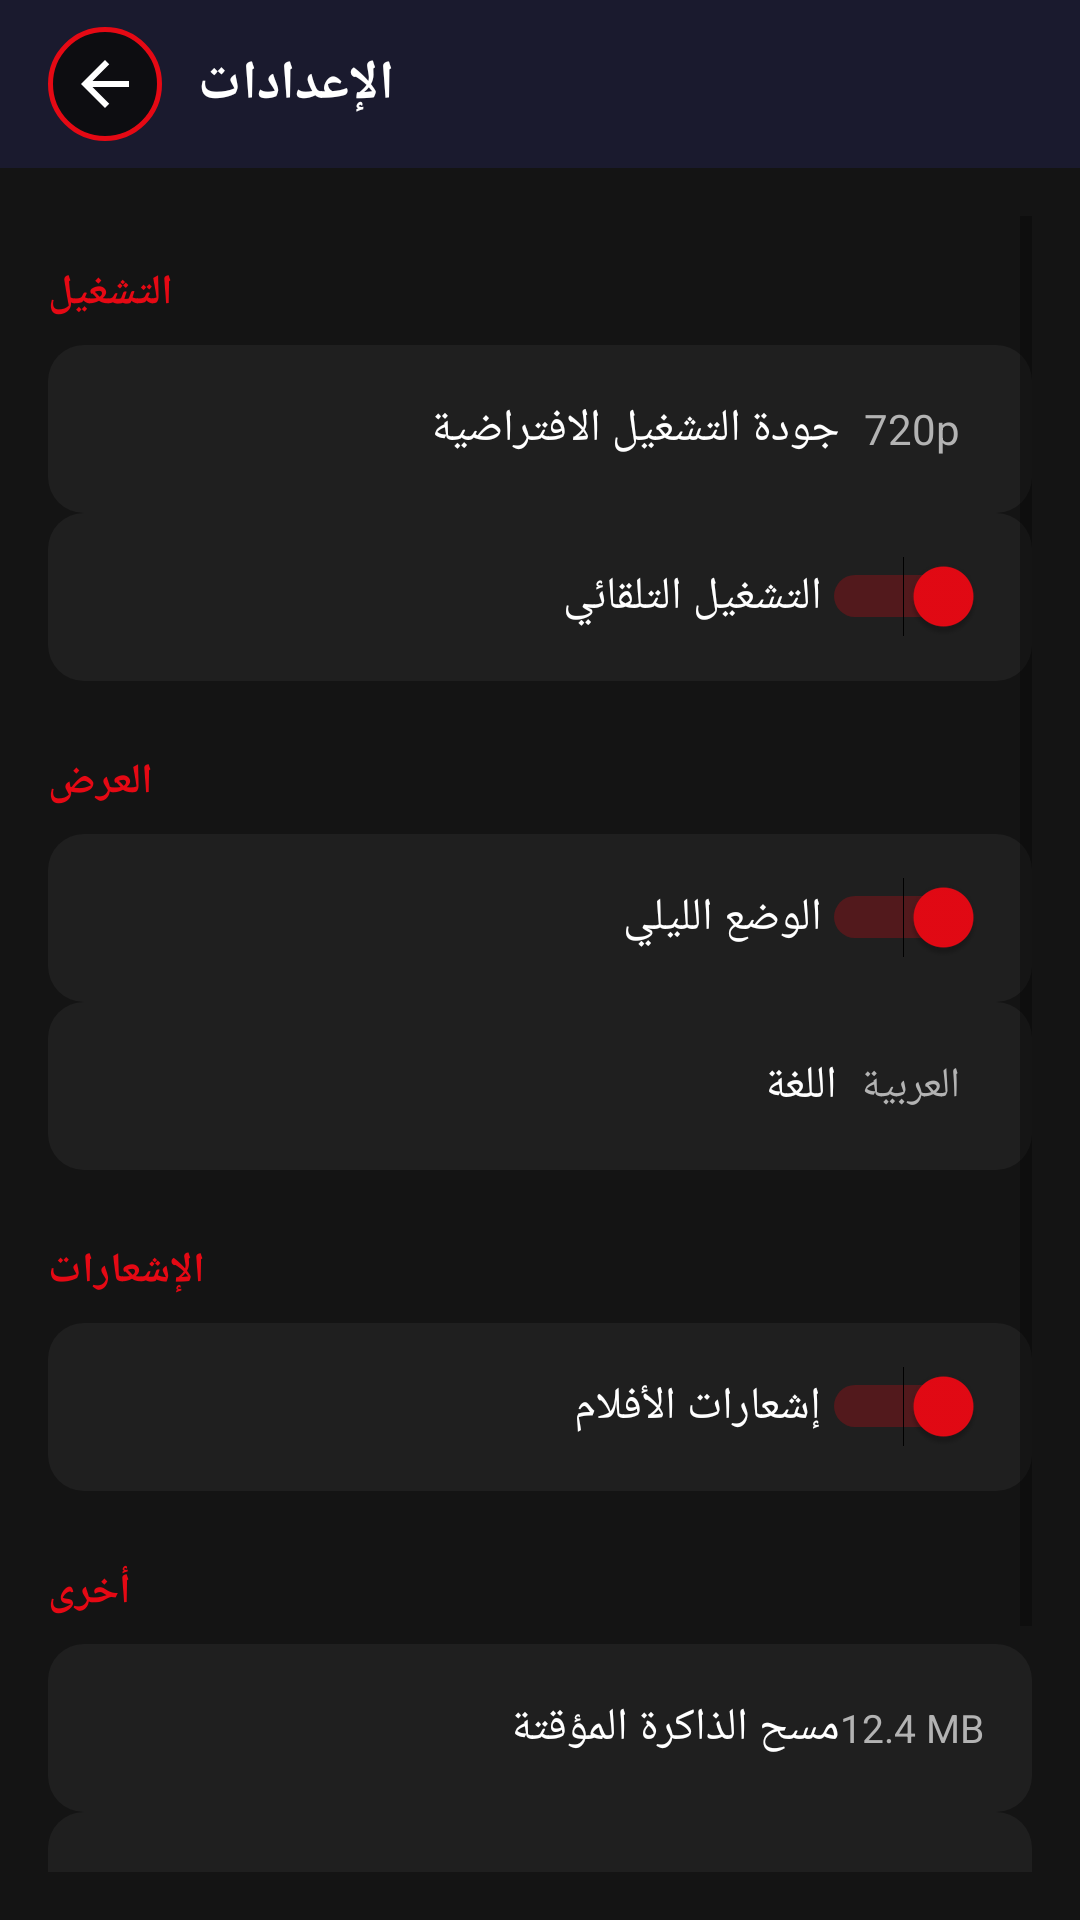

Named icons in this screenshot (1080×1920) and their bounding boxes, (x1, y1, x2, y2):
back arrow: (48, 27, 162, 141)
